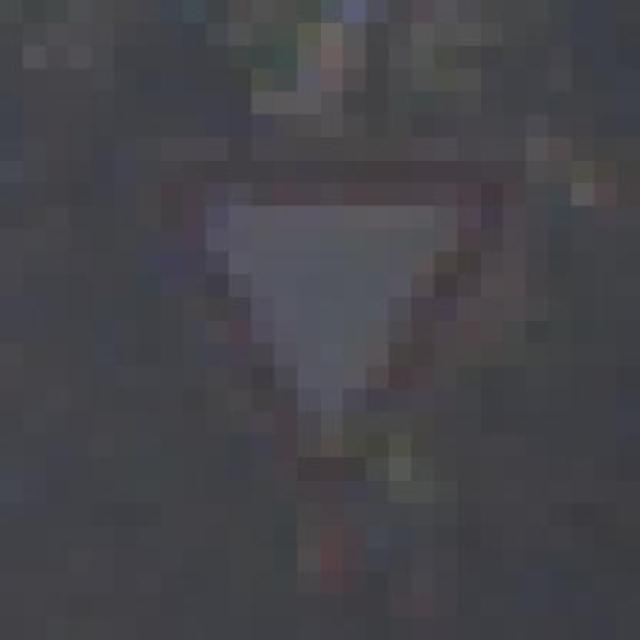Give Way: (114, 91, 572, 503)
